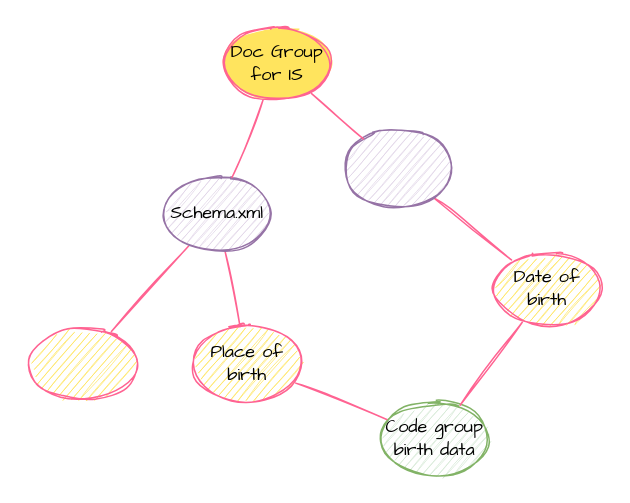
The diagram is 630 pixels wide and 503 high, and some of its shapes have lost their labels. Each missing label, with the centre of its shape:
"Screenshot" belongs at (x=397, y=168).
"Surname" belongs at (x=82, y=363).
